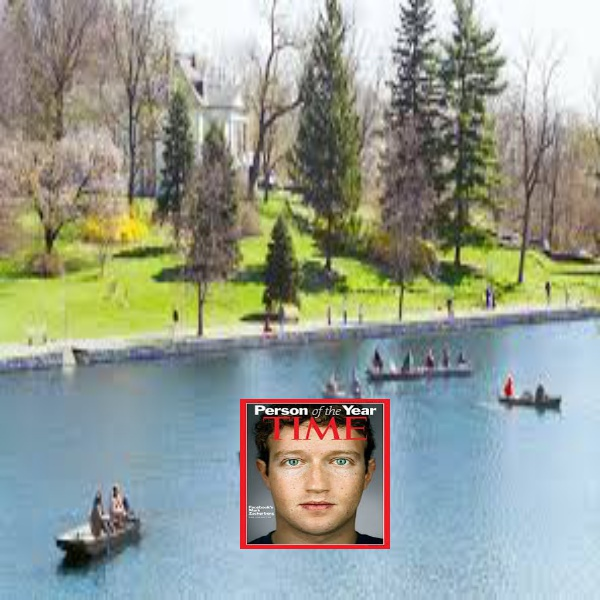time_cover: (245, 391, 387, 547)
